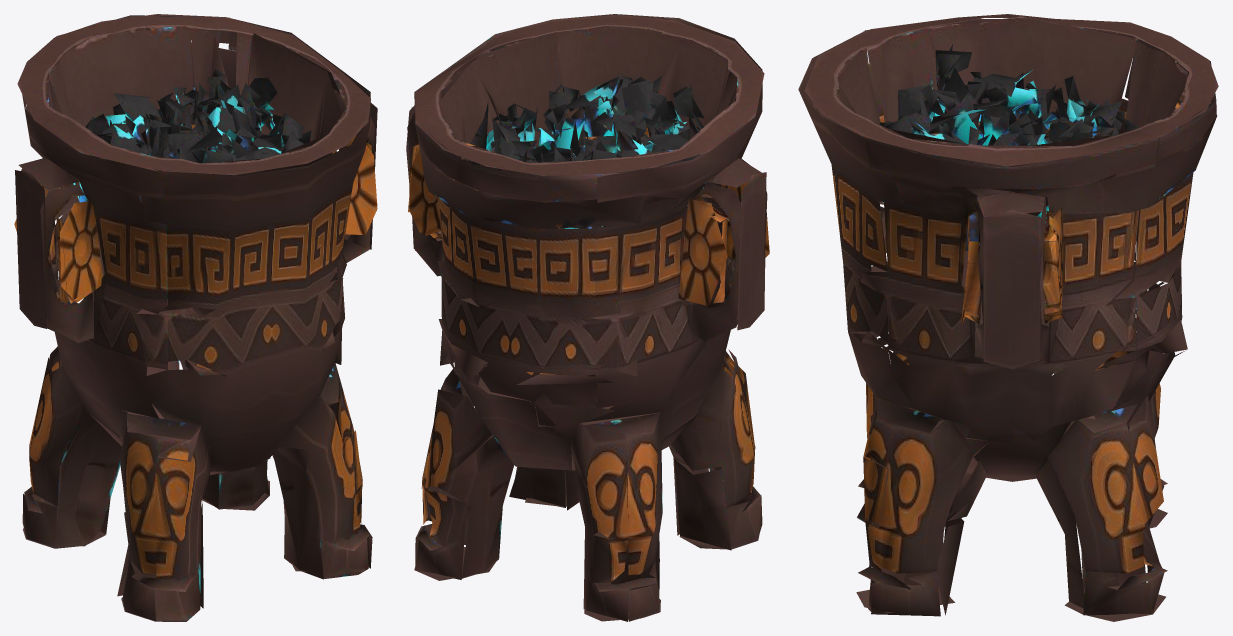
The model's file is copal_censer.glb.
The picture shows the model from 3 angles, left to right: view 1: azimuth 30°, elevation 25°; view 2: azimuth 150°, elevation 25°; view 3: azimuth 270°, elevation 25°; orthographic projection. The views are drawn at different scales.
Parts seen in each view (by area): view 1: copal_censer; view 2: copal_censer; view 3: copal_censer.
Boxes of the visible parts, x1=… form: copal_censer: x1=14, y1=14, x2=377, y2=621; copal_censer: x1=406, y1=14, x2=769, y2=621; copal_censer: x1=798, y1=14, x2=1218, y2=621.
Size of the model in its own units: 0.1975 by 0.2589 by 0.2032.
Materials: 1 (1 with a texture image).
